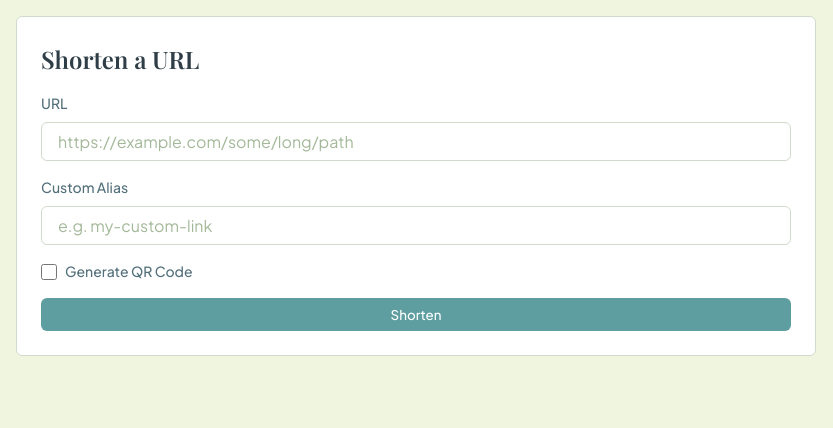
Scenario: URL Shortener Frontend App › validates that URL input cannot be empty
Click the button "Shorten": [416, 314] box [41,298,791,331]
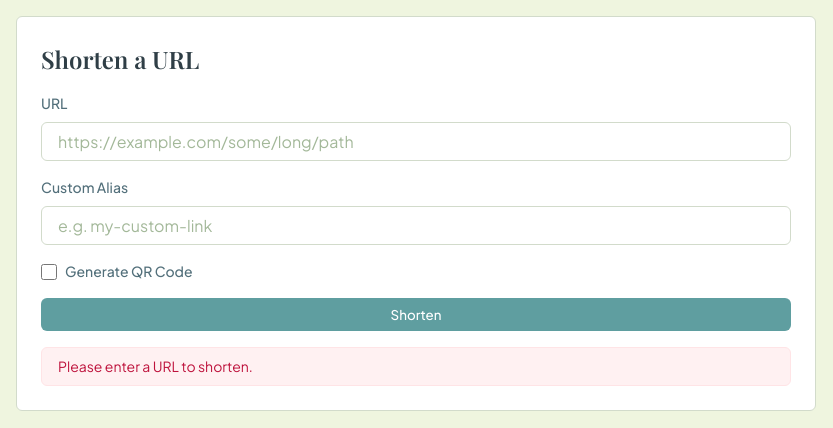
Check: the text with test id "error-message" reads "Please enter a URL to shorten.", box [58,357,253,375]
